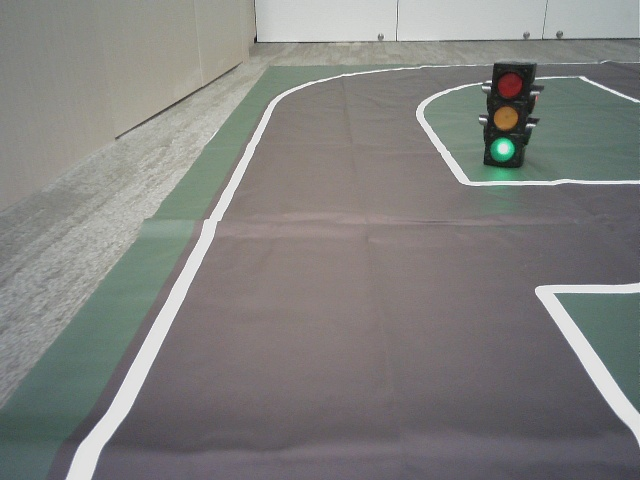green: (490, 67, 520, 163)
